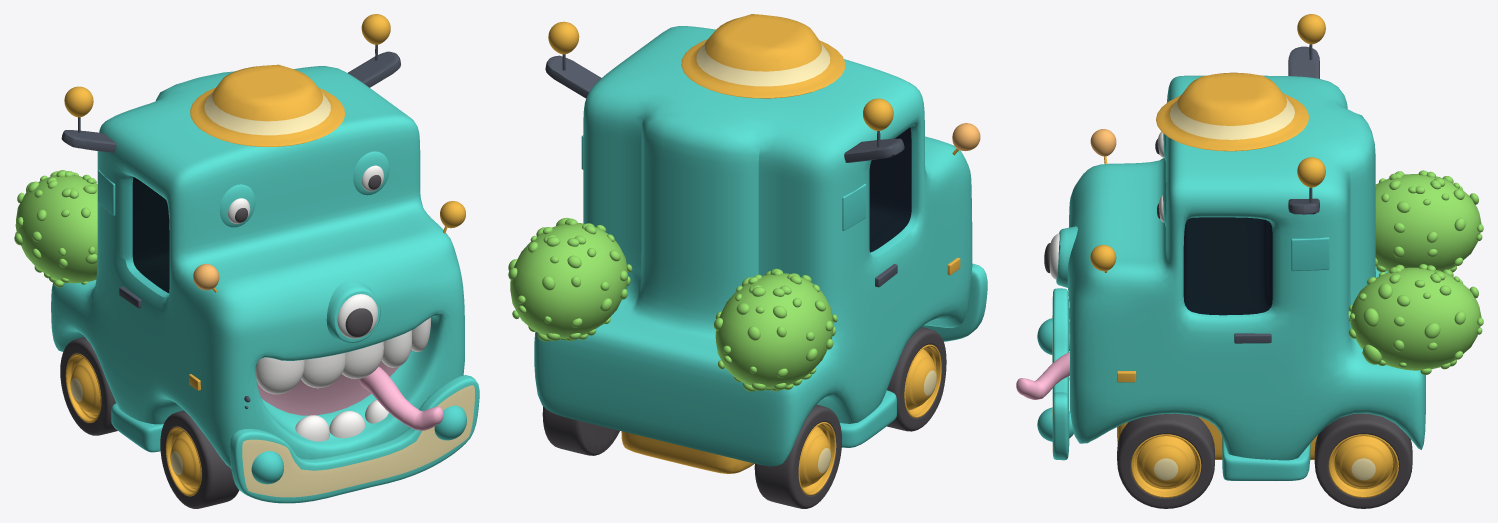
File: car3.glb
The picture shows the model from 3 angles, left to right: view 1: azimuth 30°, elevation 25°; view 2: azimuth 150°, elevation 25°; view 3: azimuth 270°, elevation 25°; orthographic projection. The views are drawn at different scales.
Visible parts, largest first — view 1: car, Cube; view 2: car, Cube; view 3: car, Cube.
Part boxes in pixels (box(x1,y1,x2,y2)): car: box(14, 14, 479, 508); Cube: box(132, 177, 169, 292); car: box(508, 14, 987, 508); Cube: box(869, 127, 911, 252); car: box(1016, 14, 1483, 508); Cube: box(1183, 217, 1272, 315).
Size of the model in its own units: 1.85 by 1.97 by 2.27.
